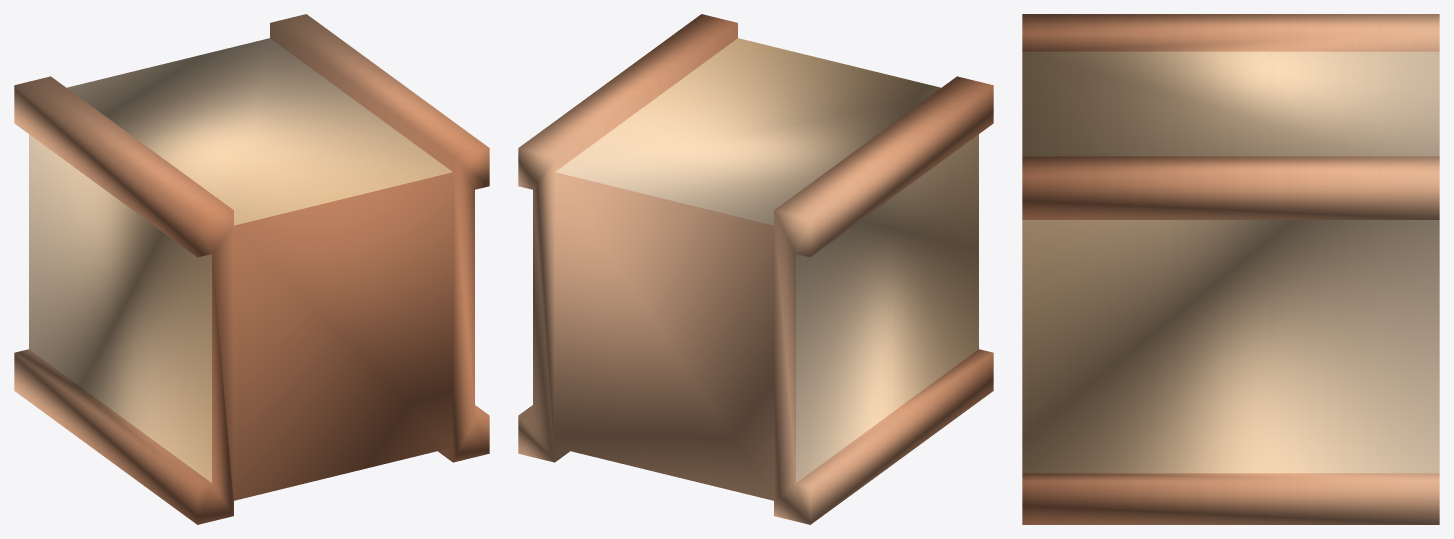
The model's file is tower-square-mid.glb.
3 views of the same model, side by side, from view 1: azimuth 30°, elevation 25°; view 2: azimuth 150°, elevation 25°; view 3: azimuth 270°, elevation 25° (orthographic). The views are drawn at different scales.
Parts seen in each view (by area): view 1: tower-square-mid; view 2: tower-square-mid; view 3: tower-square-mid.
Boxes of the visible parts, left/top/right/bottom form: tower-square-mid: left=14, top=14, right=489, bottom=524; tower-square-mid: left=518, top=14, right=993, bottom=524; tower-square-mid: left=1022, top=14, right=1439, bottom=524.
Bounding box in the file's own units: 0.93 × 0.93 × 1.01.
Materials: 1 (1 with a texture image).
